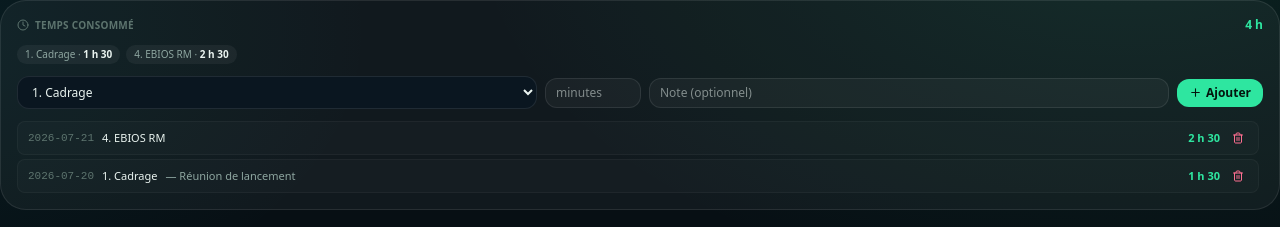
Scenario: TempsPanel › vide les champs après un ajout réussi
The width and height of the screenshot is (1280, 227).
Type "30" into the number field named "Durée en minutes".
click(593, 92); type("30")  # box [545, 78, 641, 108]
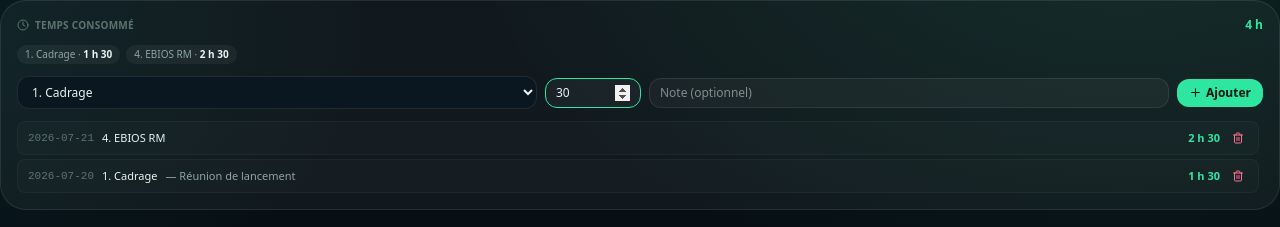
Click the button "Ajouter".
click(1220, 92)  # box [1177, 78, 1263, 106]
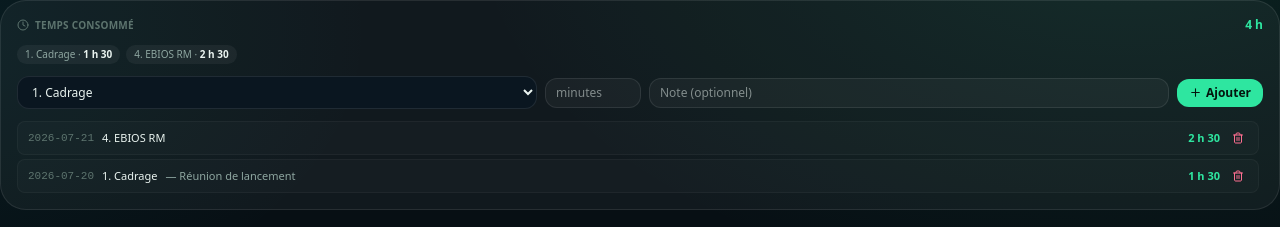
Check: the number field named "Durée en minutes" is not empty, box [545, 78, 641, 108]
